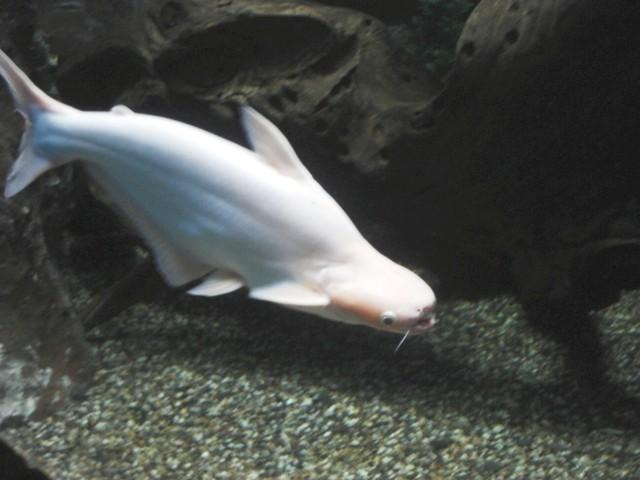Mulut: (382, 274, 458, 350)
Sirip Anal: (79, 156, 197, 286)
Sirip Dada: (248, 278, 340, 313)
Sirip Ekor: (1, 42, 74, 210)
Sirip Perut: (183, 260, 240, 308)
Sirip Punggung: (240, 105, 320, 183)
